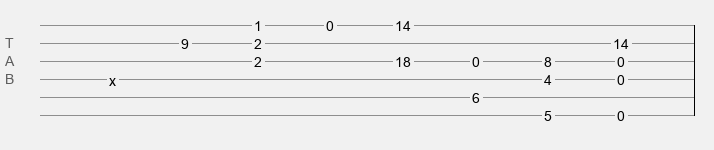0: (326, 18, 334, 28), (472, 54, 480, 64), (617, 72, 625, 82), (617, 108, 625, 118), (617, 54, 625, 64)
1: (254, 18, 262, 28)
14: (395, 18, 411, 28), (613, 36, 629, 46)
18: (395, 54, 411, 64)
2: (254, 36, 262, 46), (254, 54, 262, 64)
4: (544, 72, 552, 82)
5: (544, 108, 552, 118)
6: (472, 90, 480, 100)
8: (544, 54, 552, 64)
9: (181, 36, 189, 46)
x: (109, 73, 116, 81)
